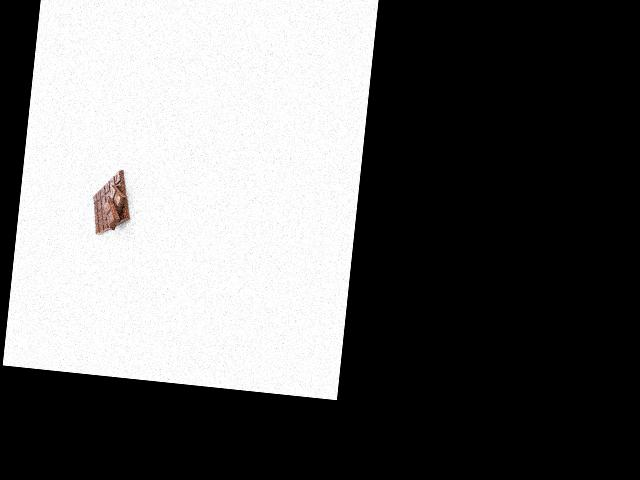chocolate: (86, 166, 138, 238)
